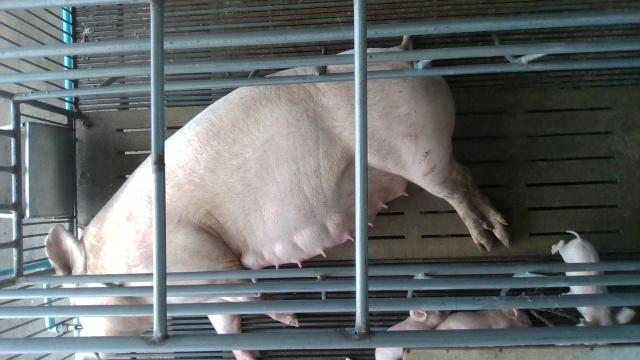piglet: (553, 229, 638, 328), (375, 309, 447, 360), (437, 309, 534, 331)
sow-sleep-lactate: (45, 49, 508, 360)
